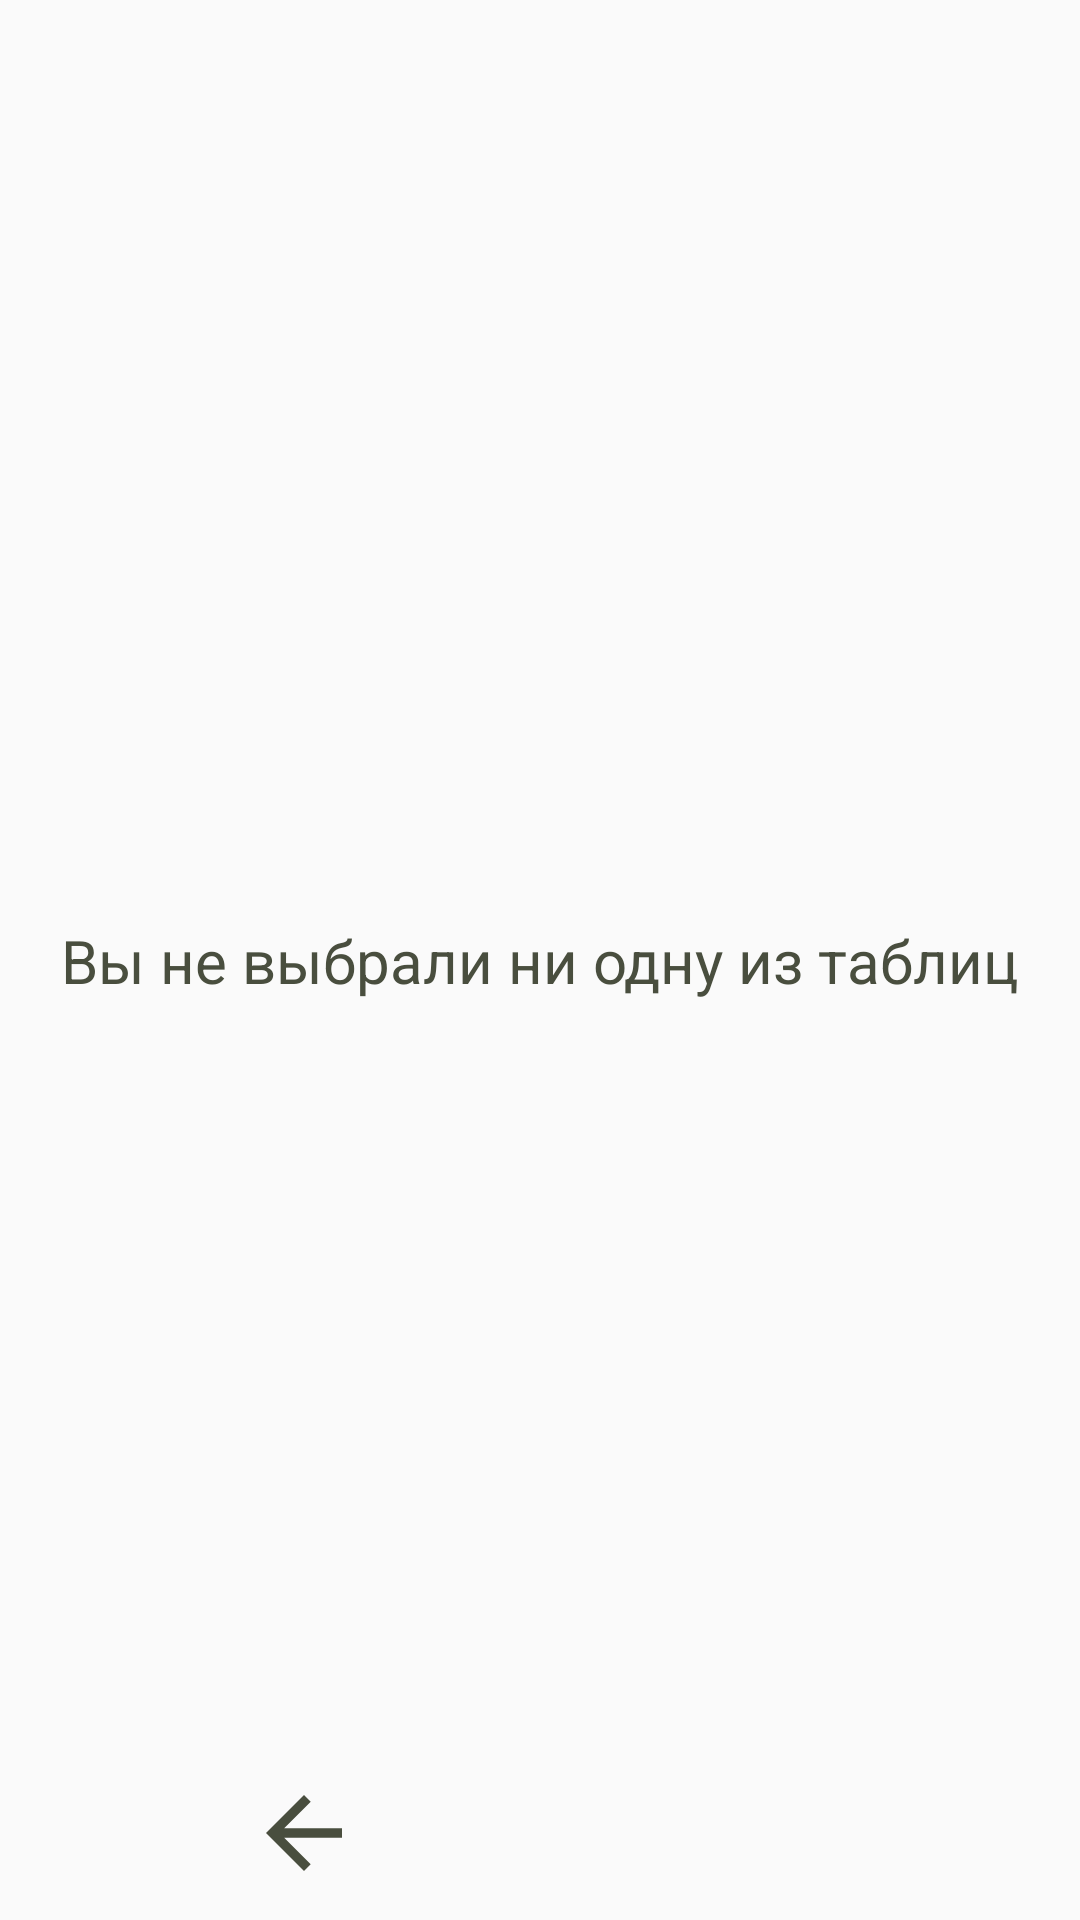

Icons on this 1080px×1920px Android screen, each with its box as rect(x1, y1, x2, y2):
back: rect(266, 1795, 342, 1871)
